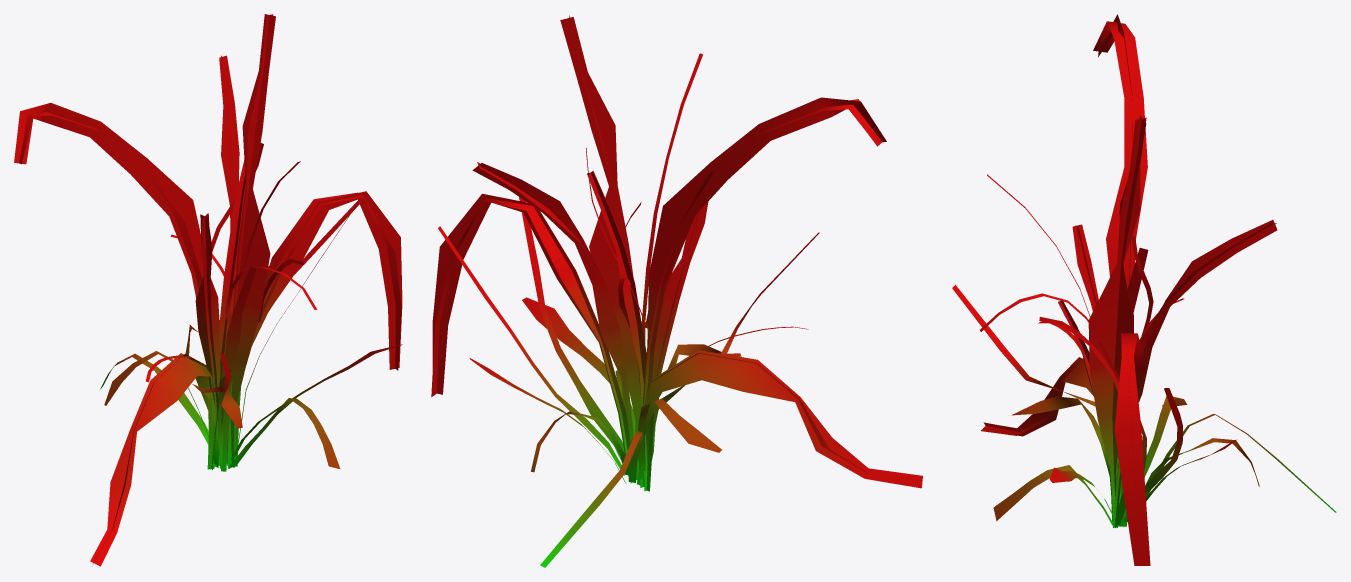
File: Var2_LOD1.fbx
3 renders of one model, left to right at view 1: azimuth 30°, elevation 25°; view 2: azimuth 150°, elevation 25°; view 3: azimuth 270°, elevation 25°, orthographic. The views are drawn at different scales.
Parts seen in each view (by area): view 1: _5821_Var2_LOD1; view 2: _5821_Var2_LOD1; view 3: _5821_Var2_LOD1.
Boxes of the visible parts, box(x1,y1,x2,y2) form: _5821_Var2_LOD1: box(14, 14, 402, 566); _5821_Var2_LOD1: box(431, 15, 922, 567); _5821_Var2_LOD1: box(952, 14, 1336, 565).
Bounding box in the file's own units: 56.33 × 57.65 × 45.83.
